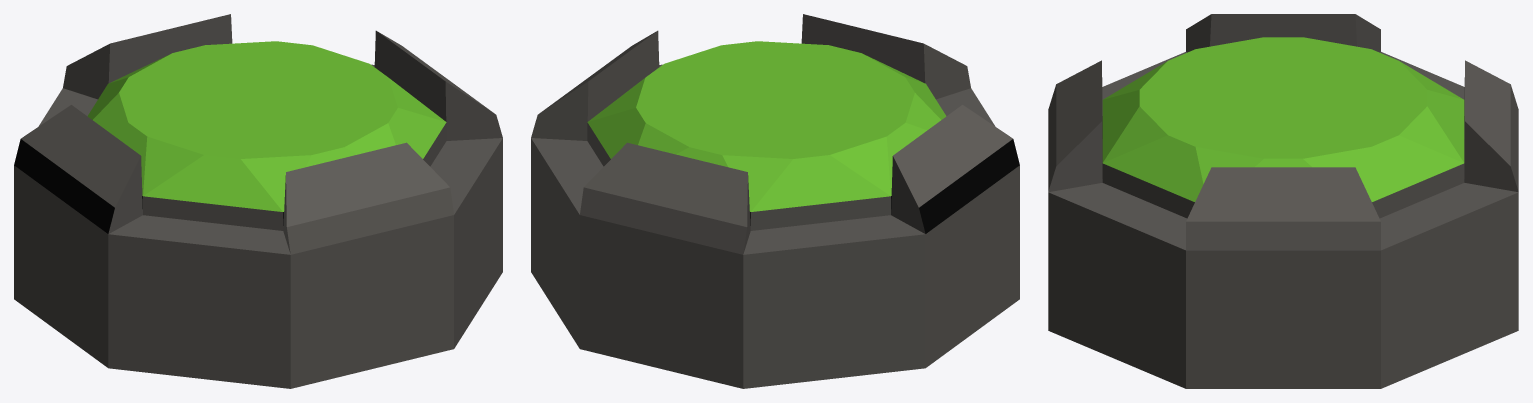
The model's file is damageSwitch.glb.
3 views of the same model, side by side, from view 1: azimuth 30°, elevation 25°; view 2: azimuth 150°, elevation 25°; view 3: azimuth 270°, elevation 25° (orthographic). The views are drawn at different scales.
Parts seen in each view (by area): view 1: Cylinder; view 2: Cylinder; view 3: Cylinder.
Part boxes in pixels (bbox=[...]): Cylinder: bbox=[14, 14, 502, 388]; Cylinder: bbox=[531, 14, 1019, 388]; Cylinder: bbox=[1048, 14, 1518, 388].
Size of the model in its own units: 0.9239 by 0.4309 by 0.9239.
Materials: 1 (1 with a texture image).
